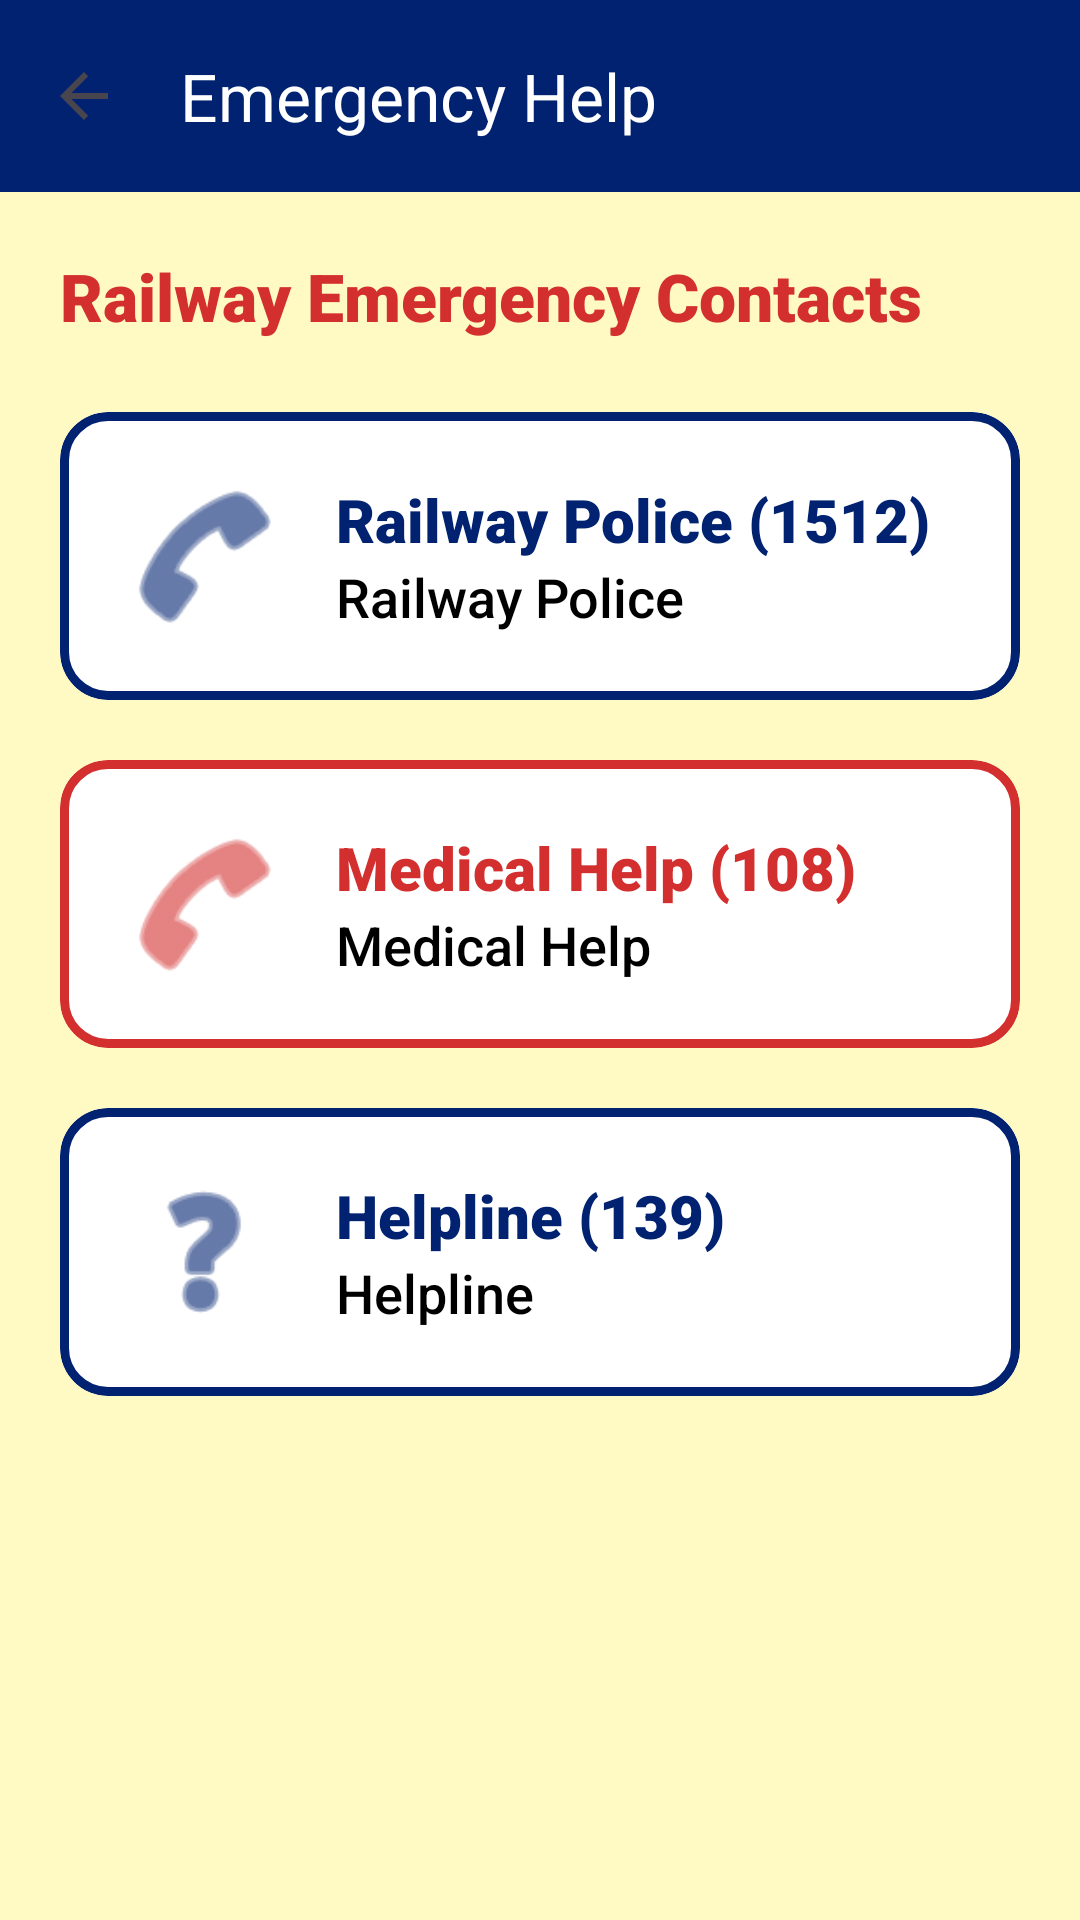

Screen size 1080x1920. Icon name, then its center in pixels as point (x, y):
call: point (205, 557), point (205, 905)
